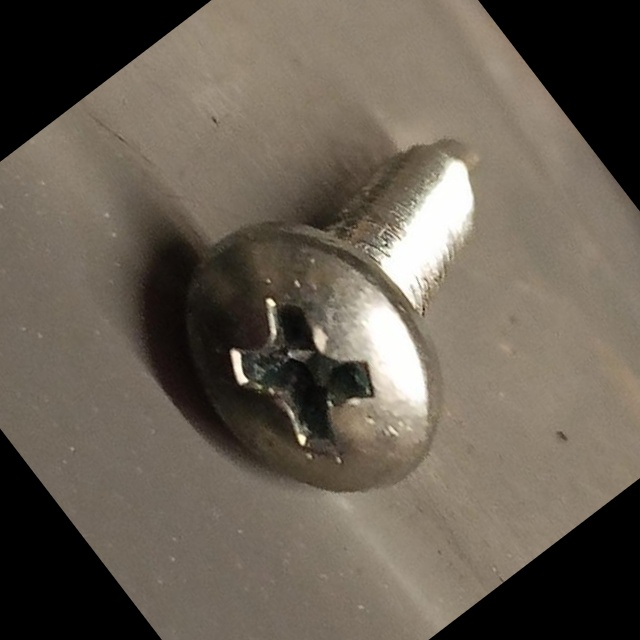phillips: (130, 171, 494, 549)
